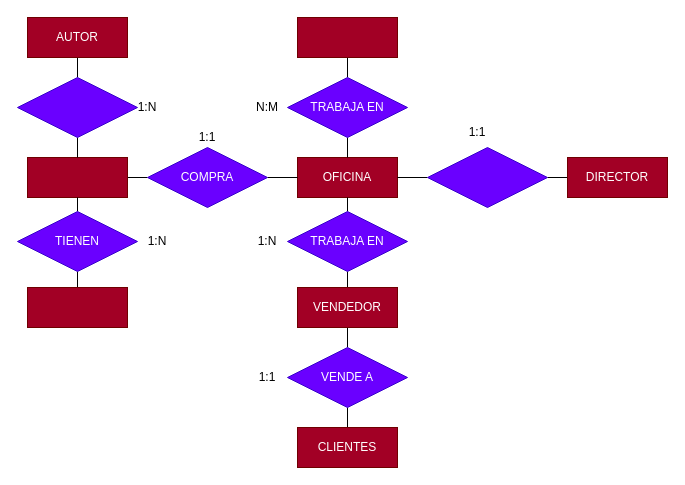
This 685x485 diagram has some shape labels left out. Each missing label, with the centre of its shape:
"COMERCIAL" belongs at (x=347, y=37).
"DIRIGE" belongs at (x=487, y=177).
"EDITORIALES" belongs at (x=77, y=307).
"ESCRIBEN" belongs at (x=77, y=107).
"LIBROS" belongs at (x=77, y=177).
